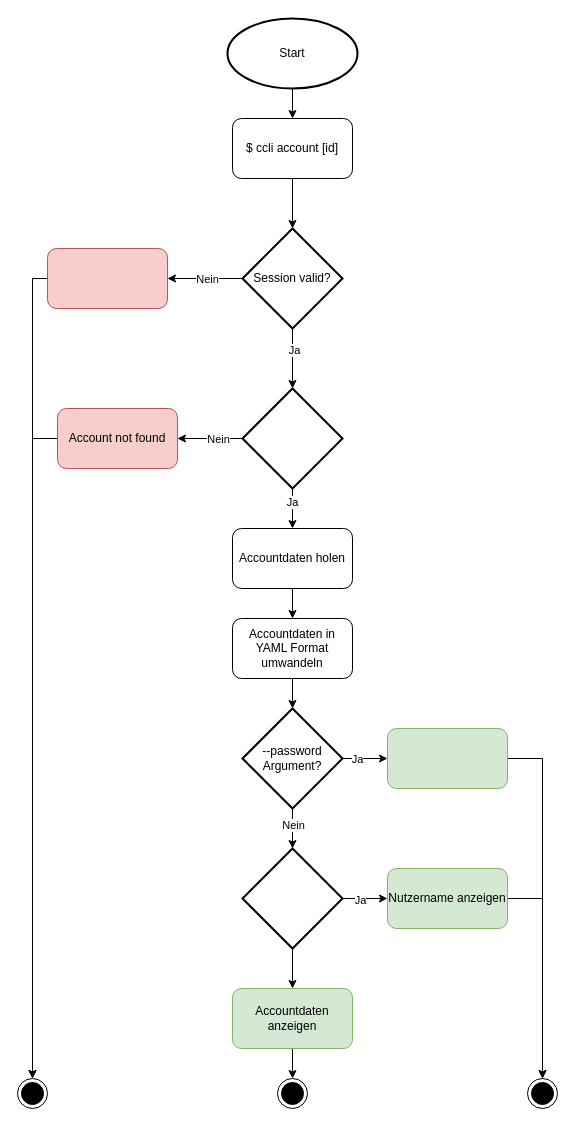
Image size: 575x1126. Some labels were removed from this diagram. Each missing label, with the centre of its shape:
"--username Argument?" belongs at pixel 292 898.
"Account gefunden?" belongs at pixel 292 438.
"Must be logged in" belongs at pixel 107 278.
"Passwort anzeigen" belongs at pixel 447 758.
